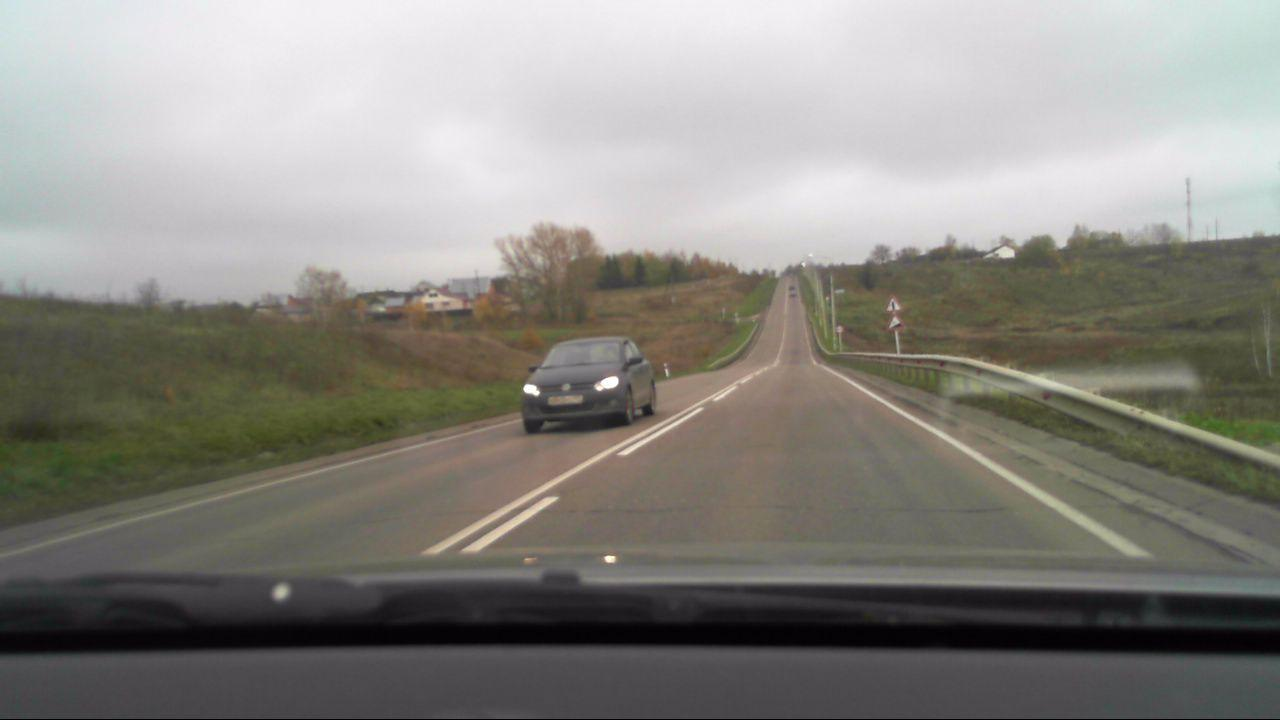1_14: (887, 314, 903, 331)
2_3_3: (884, 294, 903, 313)
